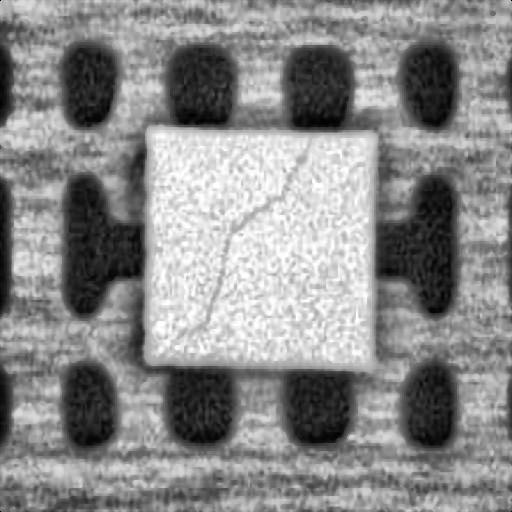DIE_CRACK: (179, 130, 315, 329)
